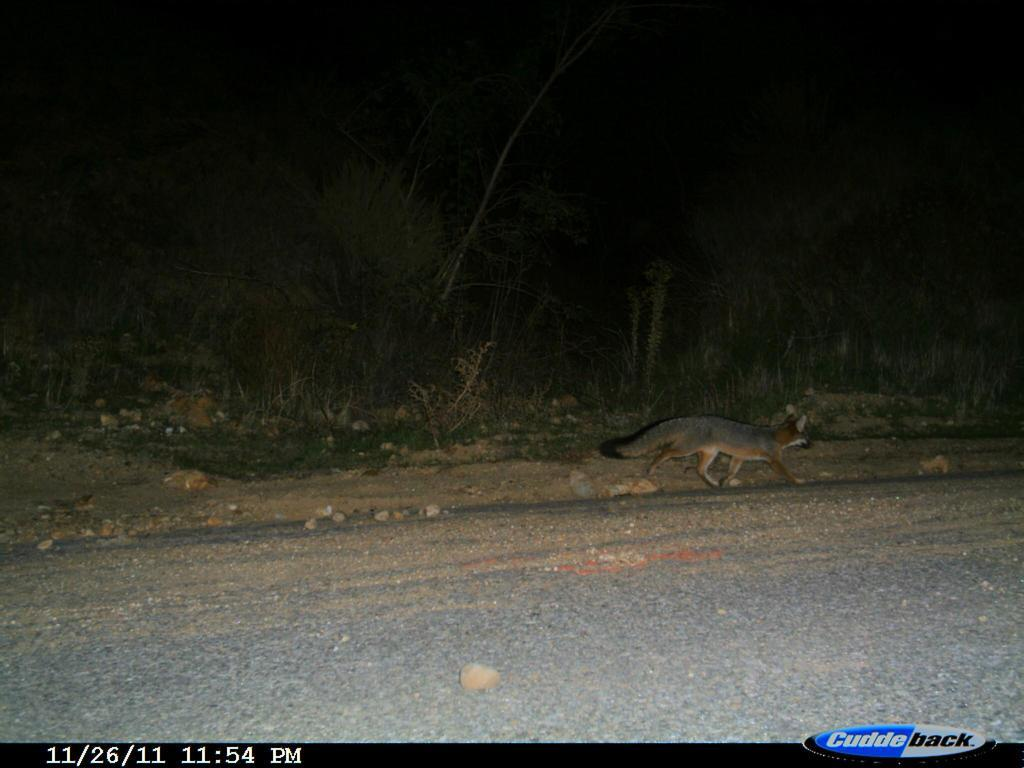fox: (593, 401, 816, 496)
